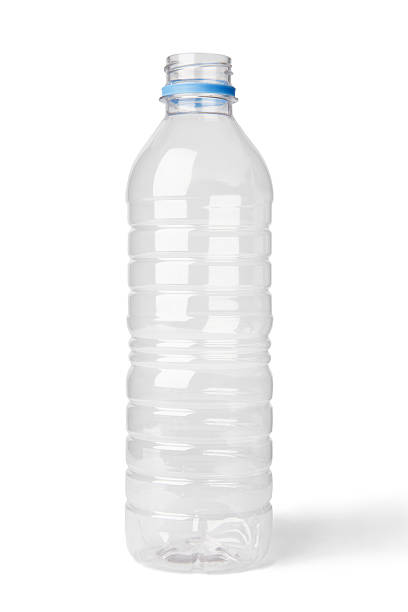HDPE Ring: (161, 82, 235, 97)
PET Bottle: (122, 49, 273, 576)
